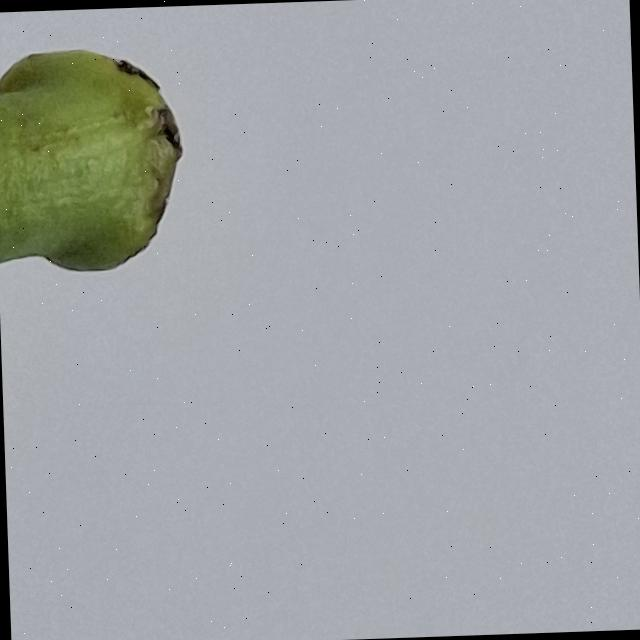mangosteen: (0, 4, 231, 640)
